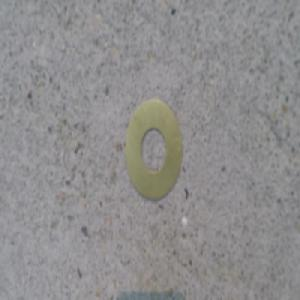Washer: (122, 97, 182, 204)
